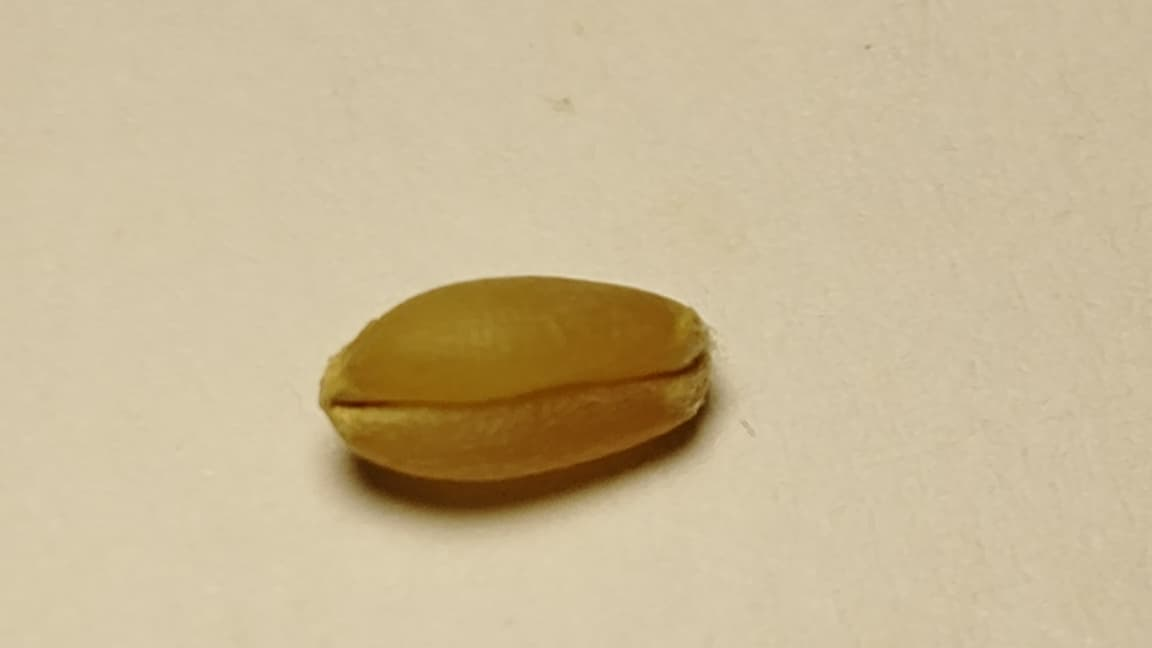healthy: (320, 271, 715, 487)
